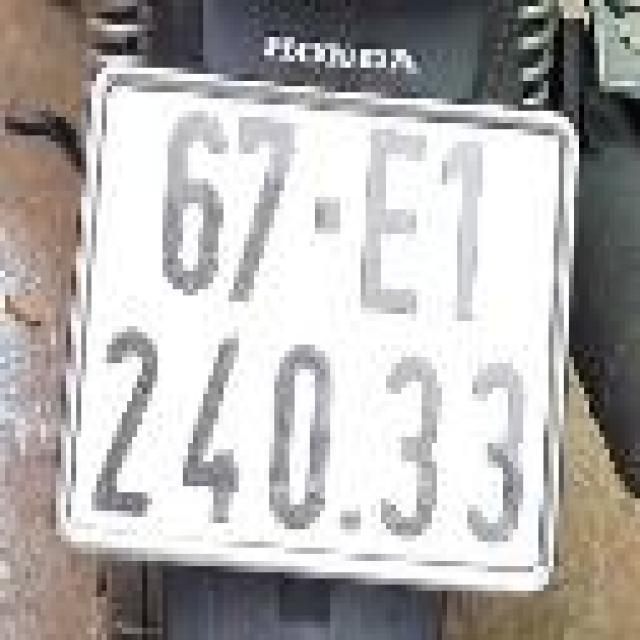0: (256, 335, 343, 551)
1: (434, 126, 490, 323)
2: (84, 320, 160, 529)
3: (462, 351, 549, 566), (371, 342, 452, 550)
4: (178, 320, 254, 535)
6: (150, 98, 231, 314)
7: (233, 102, 300, 323)
E: (345, 108, 442, 342)
